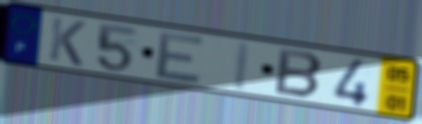4: (331, 57, 372, 109)
5: (96, 22, 141, 74)
B: (272, 46, 326, 100)
E: (152, 31, 207, 85)
I: (230, 39, 254, 94)
K: (46, 15, 89, 69)
